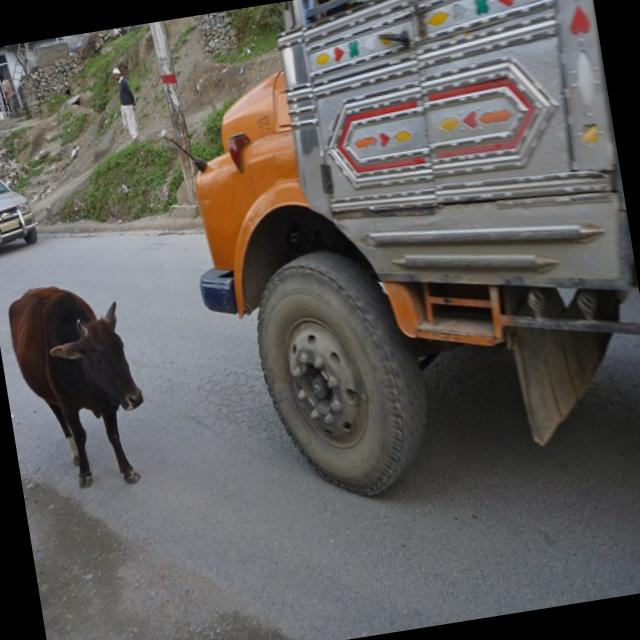Vehicle: (139, 0, 640, 543), (0, 160, 42, 259), (122, 23, 148, 34)
